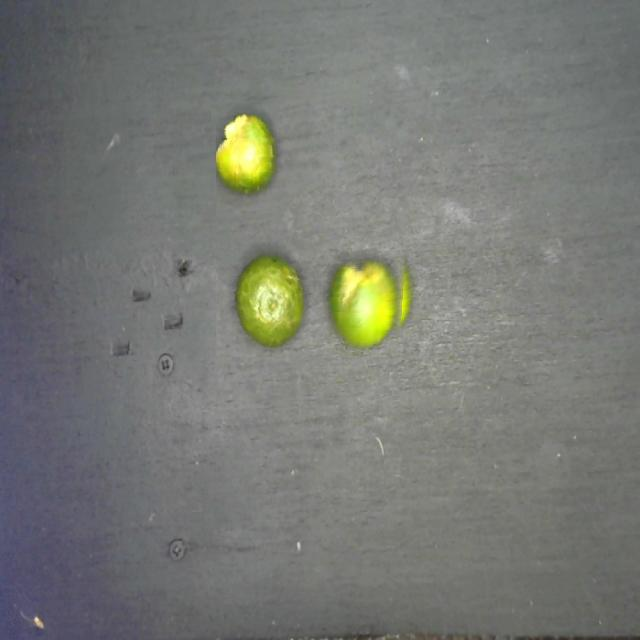biodegradable: (216, 86, 416, 357)
